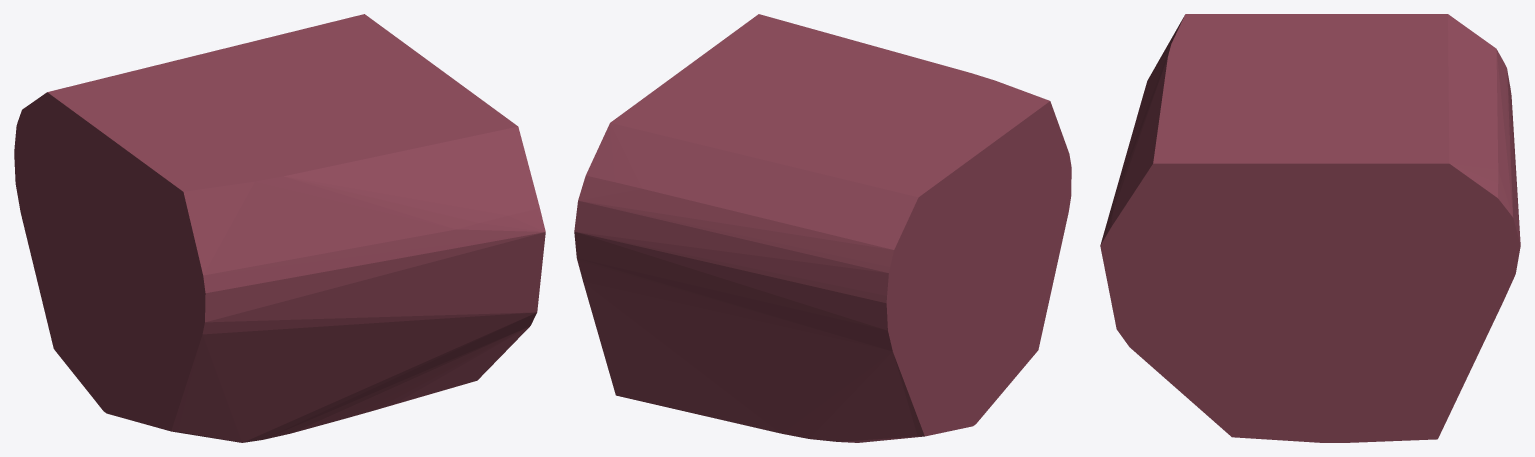
3 views of the same model, side by side, from view 1: azimuth 30°, elevation 25°; view 2: azimuth 150°, elevation 25°; view 3: azimuth 270°, elevation 25° (orthographic). The views are drawn at different scales.
Size of the model in its own units: 0.034 by 0.0315 by 0.0404.
